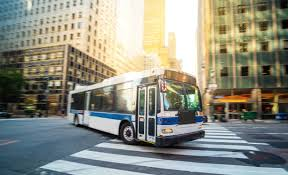bus: (66, 68, 207, 146)
